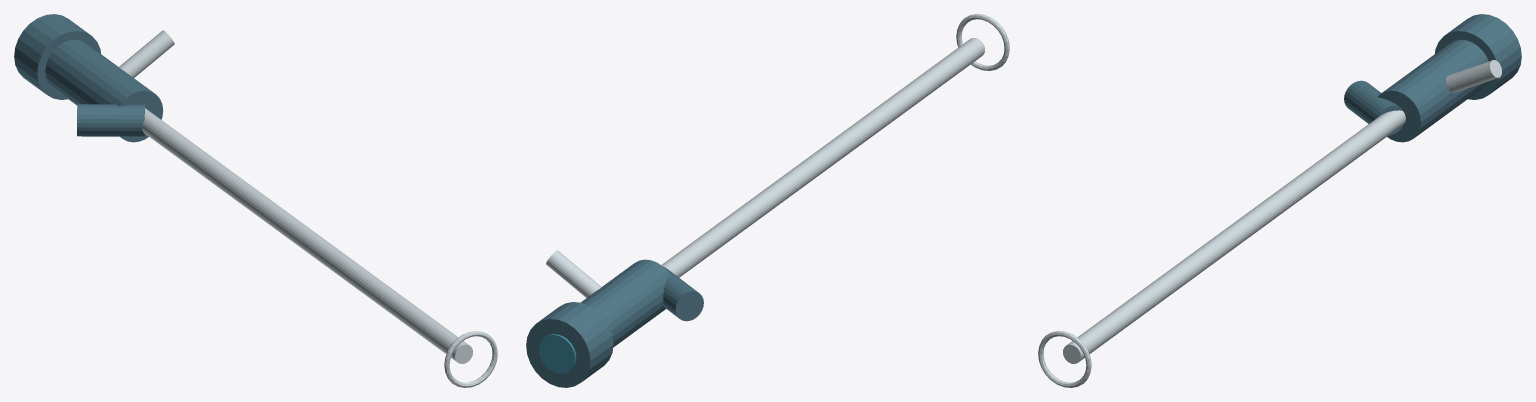
The model's file is resectoscope.glb.
3 views of the same model, side by side, from view 1: azimuth 30°, elevation 25°; view 2: azimuth 150°, elevation 25°; view 3: azimuth 330°, elevation 25° (orthographic).
Parts seen in each view (by area): view 1: optical working sheath, handle body, eyepiece, working element, light connector, loop electrode reference; view 2: optical working sheath, eyepiece, handle body, working element, lens, light connector, loop electrode reference; view 3: optical working sheath, handle body, eyepiece, working element, light connector, loop electrode reference.
Part boxes in pixels (bbox=[...]): optical working sheath: bbox=[142, 108, 472, 363]; handle body: bbox=[45, 39, 163, 142]; eyepiece: bbox=[14, 14, 100, 99]; working element: bbox=[77, 104, 144, 136]; light connector: bbox=[119, 30, 174, 77]; loop electrode reference: bbox=[444, 331, 497, 387]; optical working sheath: bbox=[661, 38, 984, 277]; eyepiece: bbox=[526, 302, 613, 387]; handle body: bbox=[581, 259, 670, 347]; working element: bbox=[663, 266, 703, 321]; lens: bbox=[539, 334, 576, 373]; light connector: bbox=[546, 250, 601, 297]; loop electrode reference: bbox=[956, 14, 1009, 70]; optical working sheath: bbox=[1063, 110, 1405, 363]; handle body: bbox=[1377, 39, 1488, 142]; eyepiece: bbox=[1435, 14, 1521, 99]; working element: bbox=[1344, 80, 1402, 135]; light connector: bbox=[1446, 60, 1501, 92]; loop electrode reference: bbox=[1038, 331, 1091, 387].
Bounding box in the file's own units: 0.0626 × 0.0375 × 0.3682.
